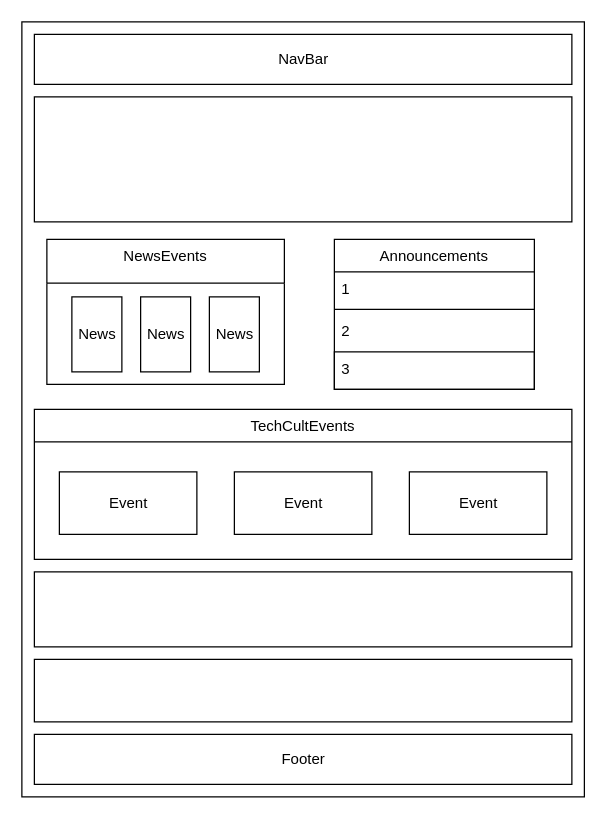
The diagram is 606 pixels wide and 819 high, and some of its shapes have lost their labels. Each missing label, with the centre of its shape:
"ContactUs" goes at [302,690].
"MainCarousel" goes at [302,159].
"TopRecruiters" goes at [302,609].
